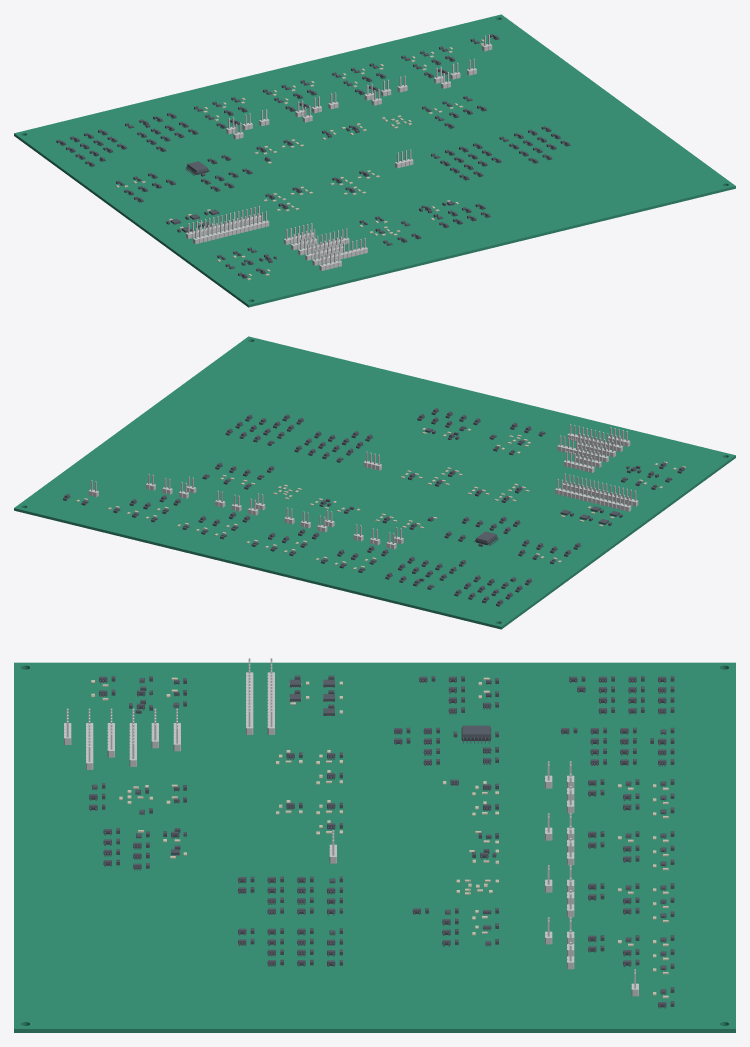
The model's file is supervision.glb.
3 renders of one model, top to bottom at view 1: azimuth 30°, elevation 25°; view 2: azimuth 150°, elevation 25°; view 3: azimuth 270°, elevation 25°, orthographic. The views are drawn at different scales.
Parts seen in each view (by area): view 1: PCB, J50101, J50100, J50005, J50003; view 2: PCB, J50100, J50101, J50003, J50005; view 3: PCB.
Part boxes in pixels (box(x1,y1,x2,y2)): PCB: box(14, 14, 735, 307); J50101: box(193, 211, 269, 244); J50100: box(186, 206, 261, 238); J50005: box(312, 238, 367, 265); J50003: box(298, 228, 349, 255); PCB: box(14, 336, 735, 629); J50100: box(555, 479, 631, 511); J50101: box(563, 473, 638, 506); J50003: box(557, 435, 608, 462); J50005: box(567, 424, 622, 451); PCB: box(14, 662, 735, 1032).
Size of the model in its own units: 0.3 by 0.0115 by 0.25.
